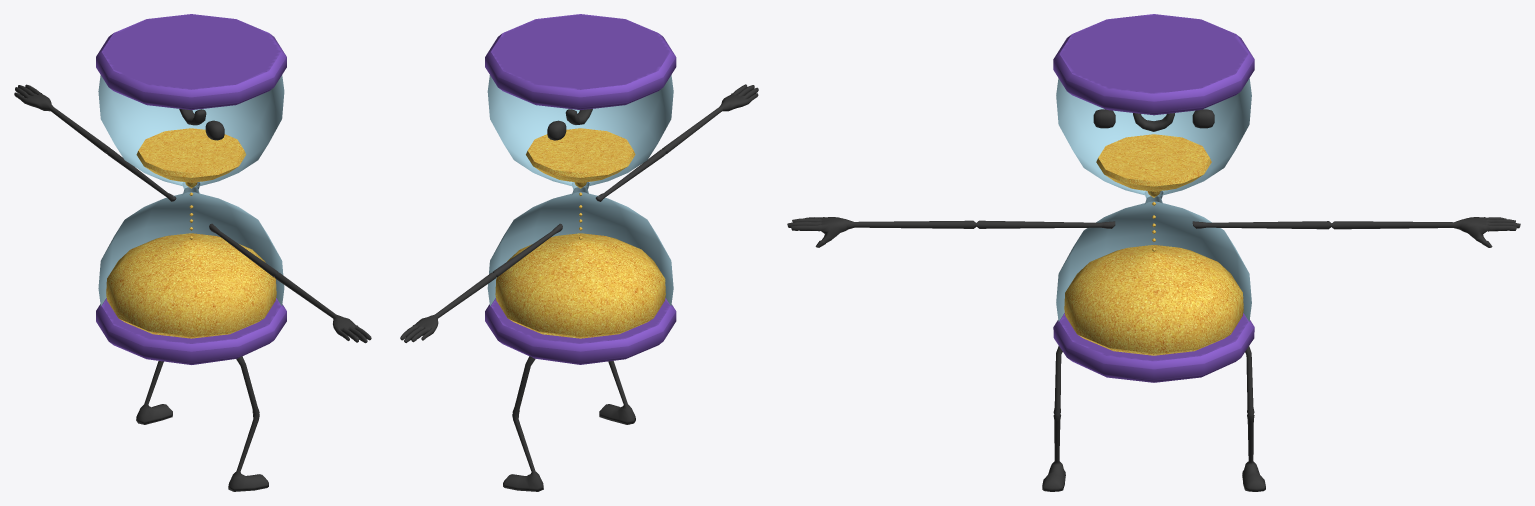
3 views of the same model, side by side, from view 1: azimuth 30°, elevation 25°; view 2: azimuth 150°, elevation 25°; view 3: azimuth 270°, elevation 25° (orthographic). The views are drawn at different scales.
Parts seen in each view (by area): view 1: _100Avatars_181_HourglassPerson; view 2: _100Avatars_181_HourglassPerson; view 3: _100Avatars_181_HourglassPerson.
Part boxes in pixels (x1,y1,x2,y2): _100Avatars_181_HourglassPerson: [14, 14, 371, 491]; _100Avatars_181_HourglassPerson: [400, 14, 758, 491]; _100Avatars_181_HourglassPerson: [787, 14, 1520, 491].
Size of the model in its own units: 1.27 by 2.96 by 4.64.
1 material, 1 textured.
